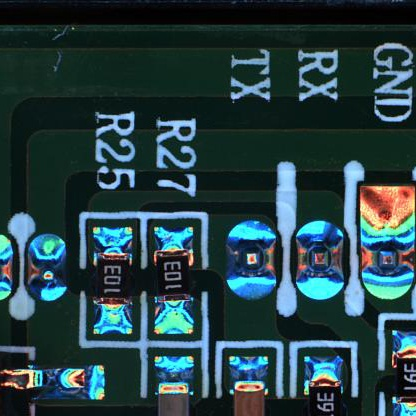spot: (355, 175, 416, 303), (290, 210, 351, 304), (222, 214, 280, 302), (24, 227, 69, 310)
